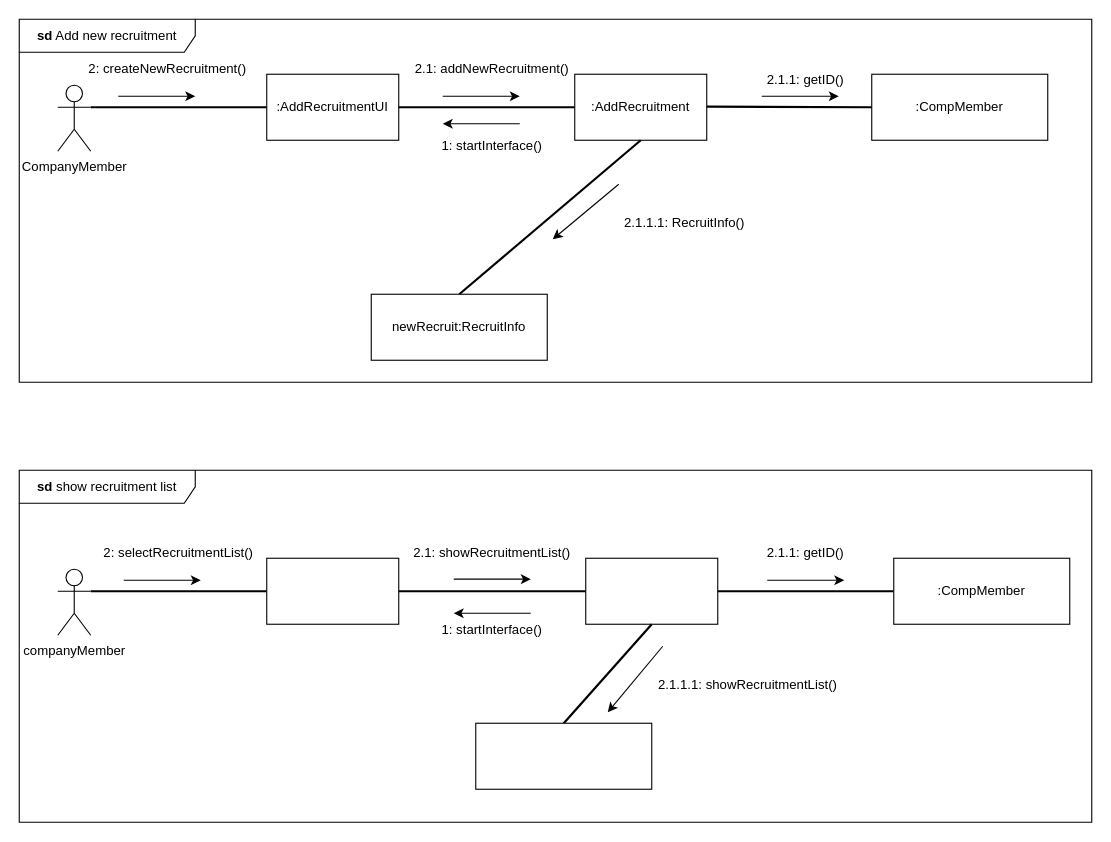
Some shapes in this 1111 by 842 pixel diagram are drawn without their labels. Here are the shapes that lost their labels. From the top down, the centre of each, then its label:
At (332,590): ":recruitmentlistUI".
At (651,590): ":showRecruitmentlist".
At (563,755): ":RecruitInfo".
